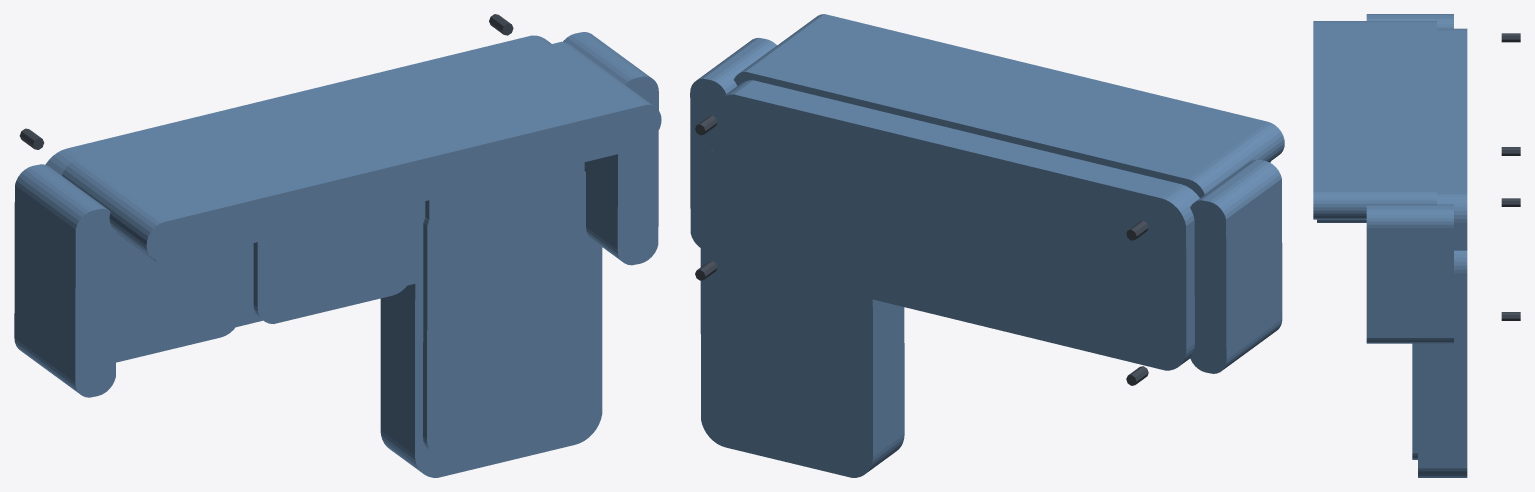
Rendered from SOFA_SECTIONAL_BLUE_HERO_001.glb.
The picture shows the model from 3 angles, left to right: view 1: azimuth 30°, elevation 25°; view 2: azimuth 150°, elevation 25°; view 3: azimuth 270°, elevation 25°; orthographic projection. The views are drawn at different scales.
Parts seen in each view (by area): view 1: sofa_back_001, chaise_cushion_015, sofa_arm_002, seat_cushion_006, chaise_base_014, seat_cushion_004, sofa_arm_003, sofa_base_000, seat_cushion_008, back_pillow_005, back_pillow_007, back_pillow_009; view 2: sofa_base_000, chaise_base_014, sofa_back_001, sofa_arm_002, sofa_arm_003; view 3: sofa_back_001, sofa_arm_003, chaise_base_014, sofa_base_000, sofa_arm_002, chaise_cushion_015.
Boxes of the visible parts, left/top/right/bottom form: sofa_back_001: left=62, top=41, right=661, bottom=260; chaise_cushion_015: left=423, top=171, right=598, bottom=456; sofa_arm_002: left=14, top=164, right=116, bottom=397; seat_cushion_006: left=253, top=204, right=412, bottom=323; chaise_base_014: left=380, top=201, right=602, bottom=477; seat_cushion_004: left=116, top=233, right=241, bottom=362; sofa_arm_003: left=563, top=32, right=658, bottom=265; sofa_base_000: left=45, top=35, right=551, bottom=327; seat_cushion_008: left=425, top=162, right=584, bottom=281; back_pillow_005: left=116, top=226, right=302, bottom=264; back_pillow_007: left=328, top=184, right=474, bottom=223; back_pillow_009: left=499, top=142, right=645, bottom=181; sofa_base_000: left=713, top=80, right=1199, bottom=370; chaise_base_014: left=700, top=149, right=904, bottom=477; sofa_back_001: left=734, top=14, right=1284, bottom=197; sofa_arm_002: left=1190, top=159, right=1282, bottom=373; sofa_arm_003: left=690, top=38, right=776, bottom=247; sofa_back_001: left=1313, top=21, right=1436, bottom=219; sofa_arm_003: left=1366, top=204, right=1453, bottom=343; chaise_base_014: left=1418, top=250, right=1467, bottom=477; sofa_base_000: left=1437, top=28, right=1467, bottom=250; sofa_arm_002: left=1366, top=14, right=1453, bottom=28; chaise_cushion_015: left=1412, top=343, right=1417, bottom=459.
Size of the model in its own units: 2.55 by 1.64 by 1.09.
